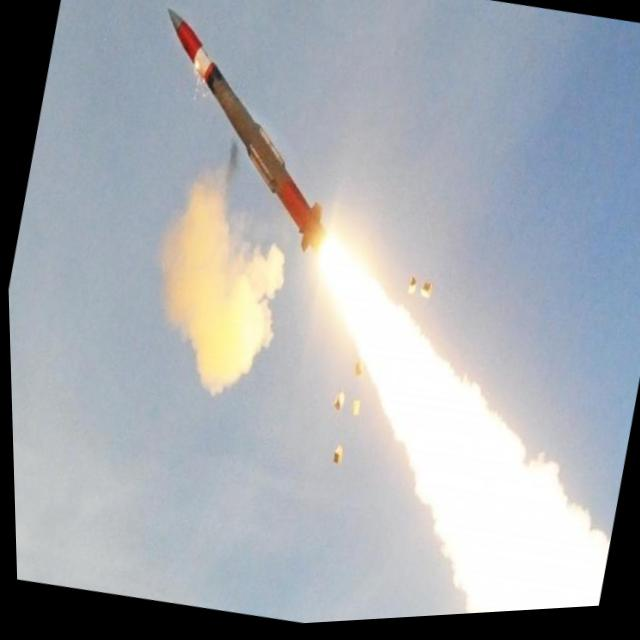missile: (121, 0, 383, 266)
